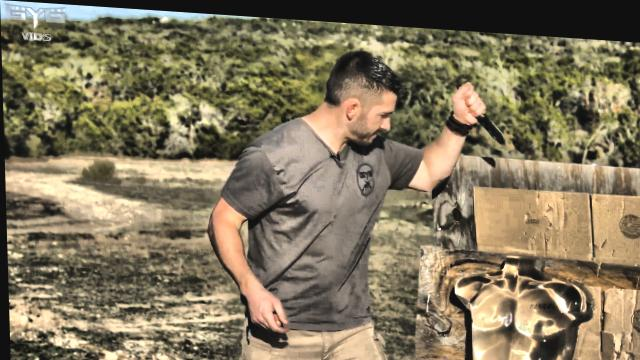knife: (453, 72, 511, 147)
